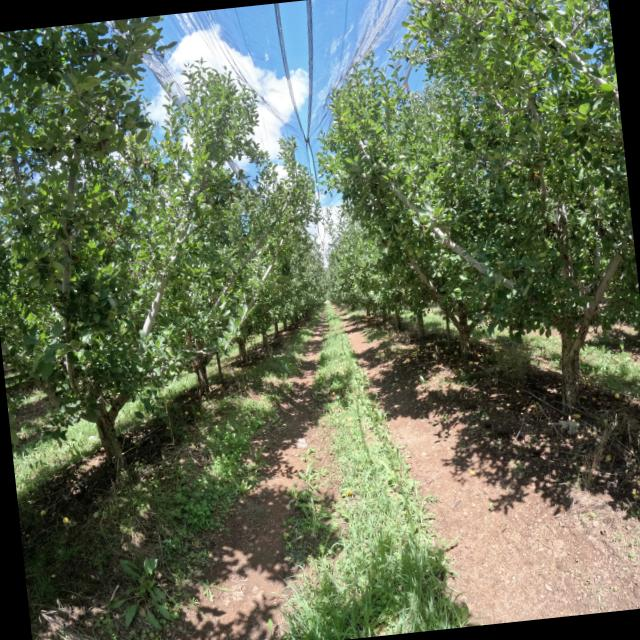-FireBlight-: (184, 334, 194, 345)
